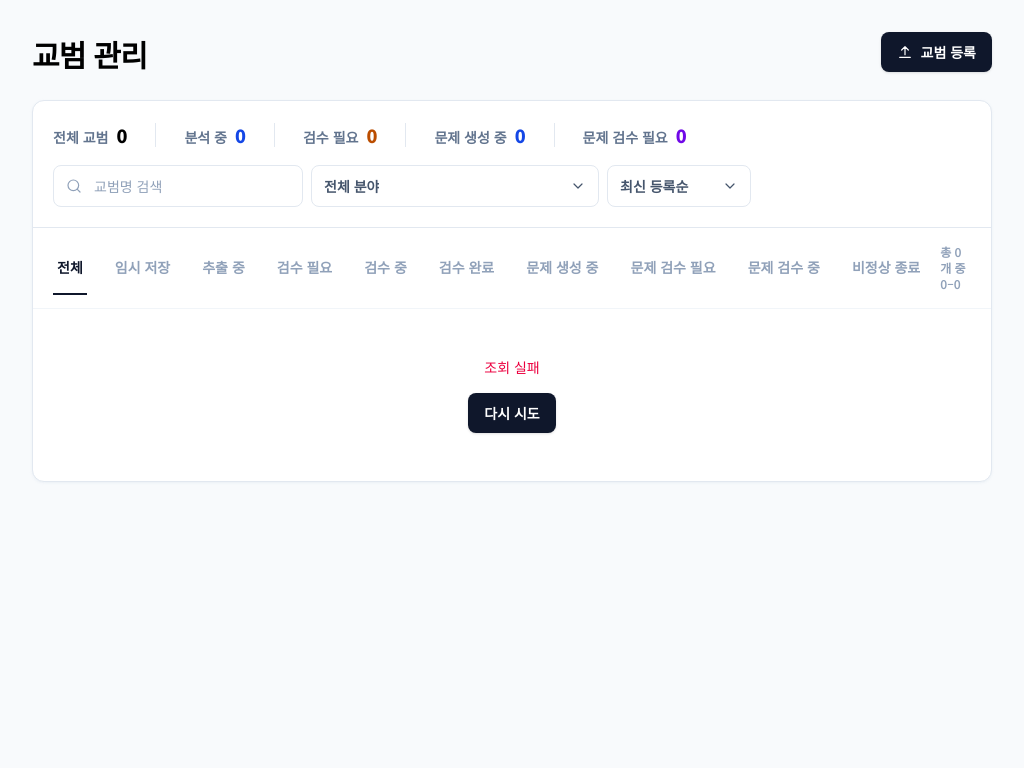
Test: 실패 화면에서 다시 조회한 뒤 빈 목록을 표시한다
Check: the message reads "조회 실패", box [484,357,540,377]
Check: the text "검색 결과가 없습니다" is not shown
What coordinates should you click on to do the following:
click the button "다시 시도"
I would click on:
 (512, 413)
Its box is [468,393,556,433].
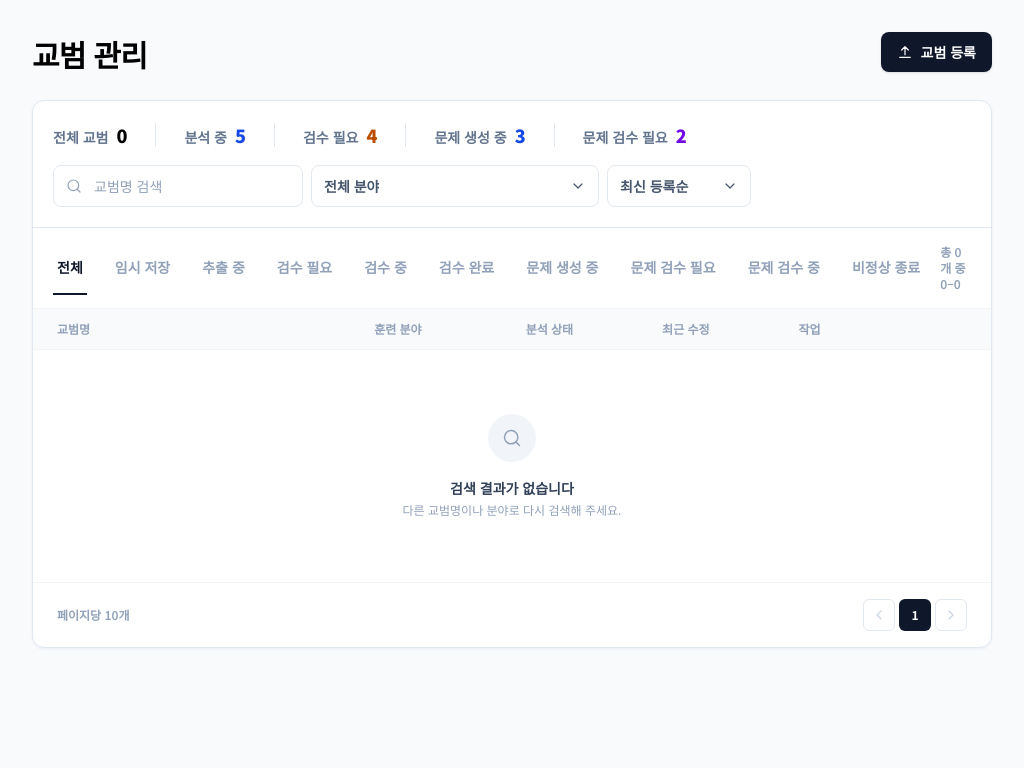
Check: the text "총 0개 중 0–0" is shown, box [940,243,966,292]
Check: the text "검색 결과가 없습니다" is shown, box [450,478,574,498]
